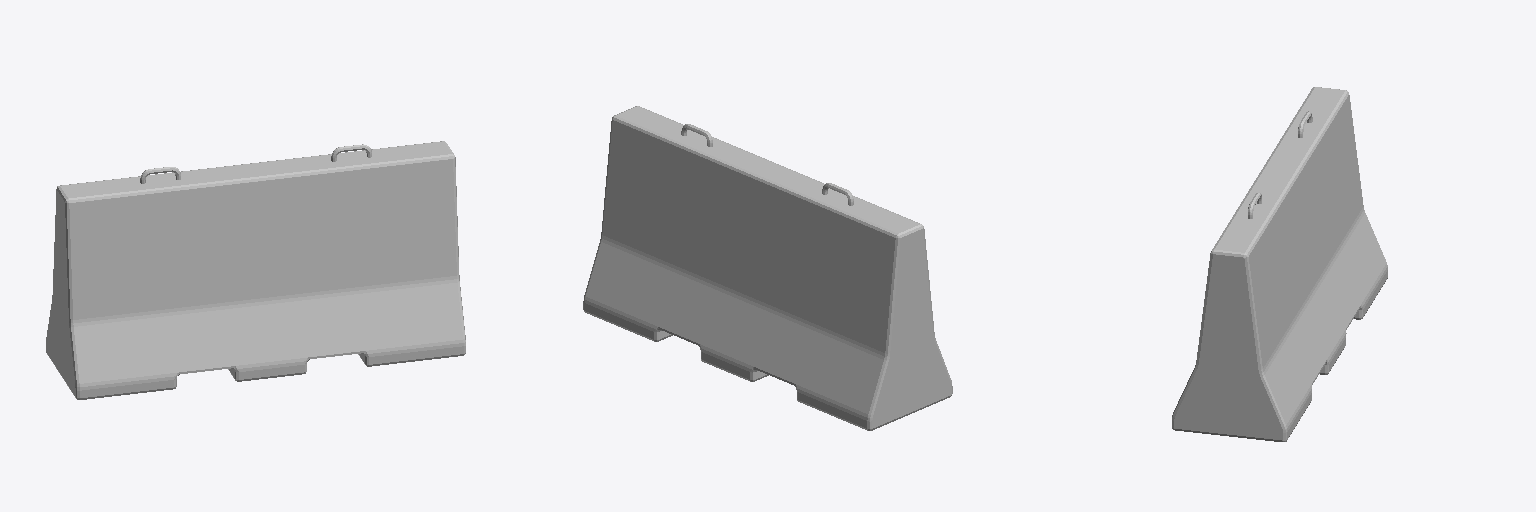
File: barrier_1.obj
3 renders of one model, left to right at view 1: azimuth 30°, elevation 25°; view 2: azimuth 150°, elevation 25°; view 3: azimuth 270°, elevation 25°, orthographic.
Bounding box in the file's own units: 5.17 × 2.69 × 2.66.